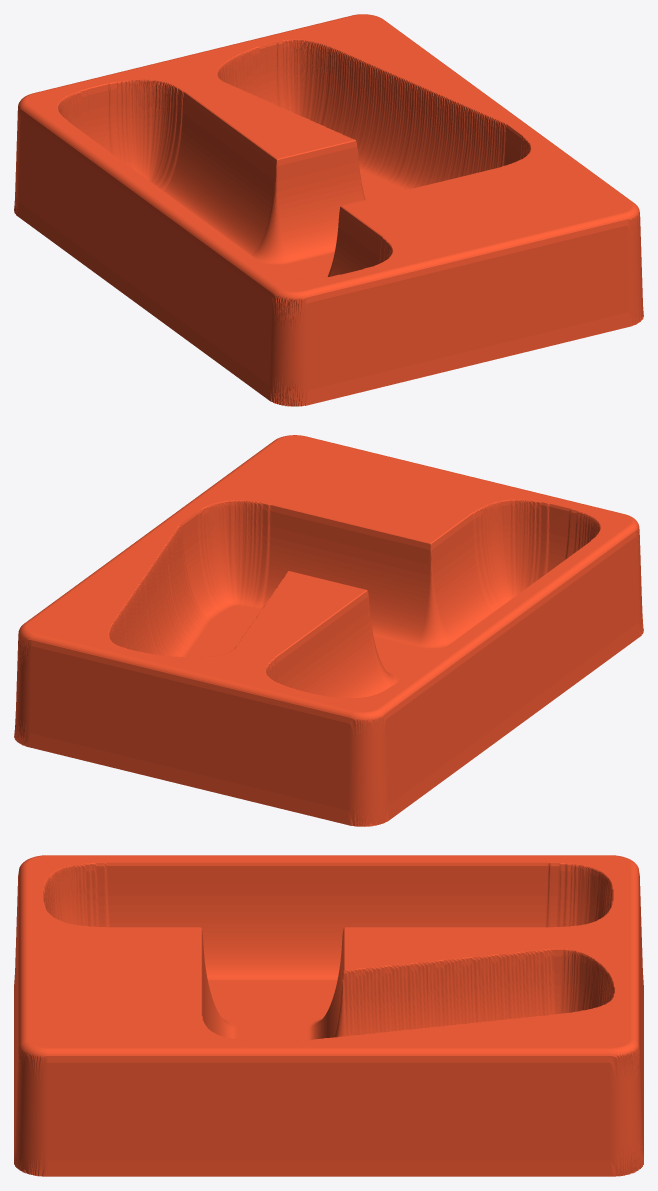
File: mold.glb
3 renders of one model, top to bottom at view 1: azimuth 30°, elevation 25°; view 2: azimuth 150°, elevation 25°; view 3: azimuth 270°, elevation 25°, orthographic. The views are drawn at different scales.
Parts seen in each view (by area): view 1: geometry_0; view 2: geometry_0; view 3: geometry_0.
Boxes of the visible parts, <box> form: geometry_0: <box>14,14,643,406</box>; geometry_0: <box>14,435,643,826</box>; geometry_0: <box>14,855,643,1176</box>.
Bounding box in the file's own units: 0.1289 × 0.0365 × 0.1689.
